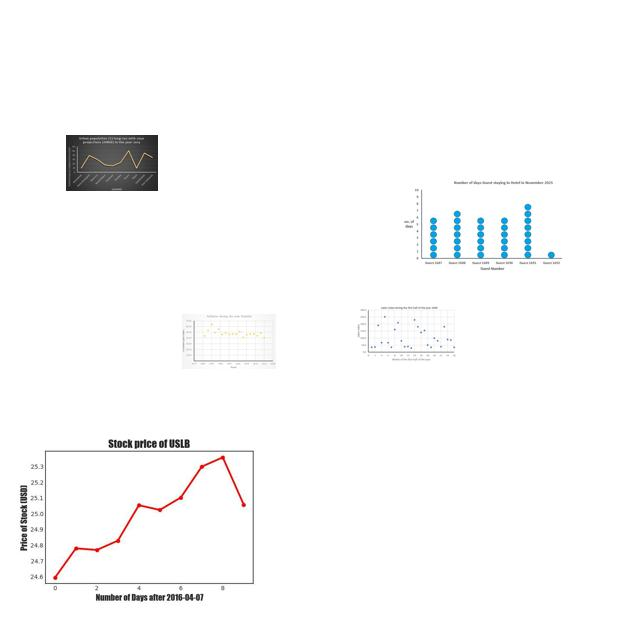Graph: (12, 416, 280, 617), (402, 179, 562, 273), (357, 305, 456, 362), (182, 314, 276, 369), (66, 135, 158, 191)
